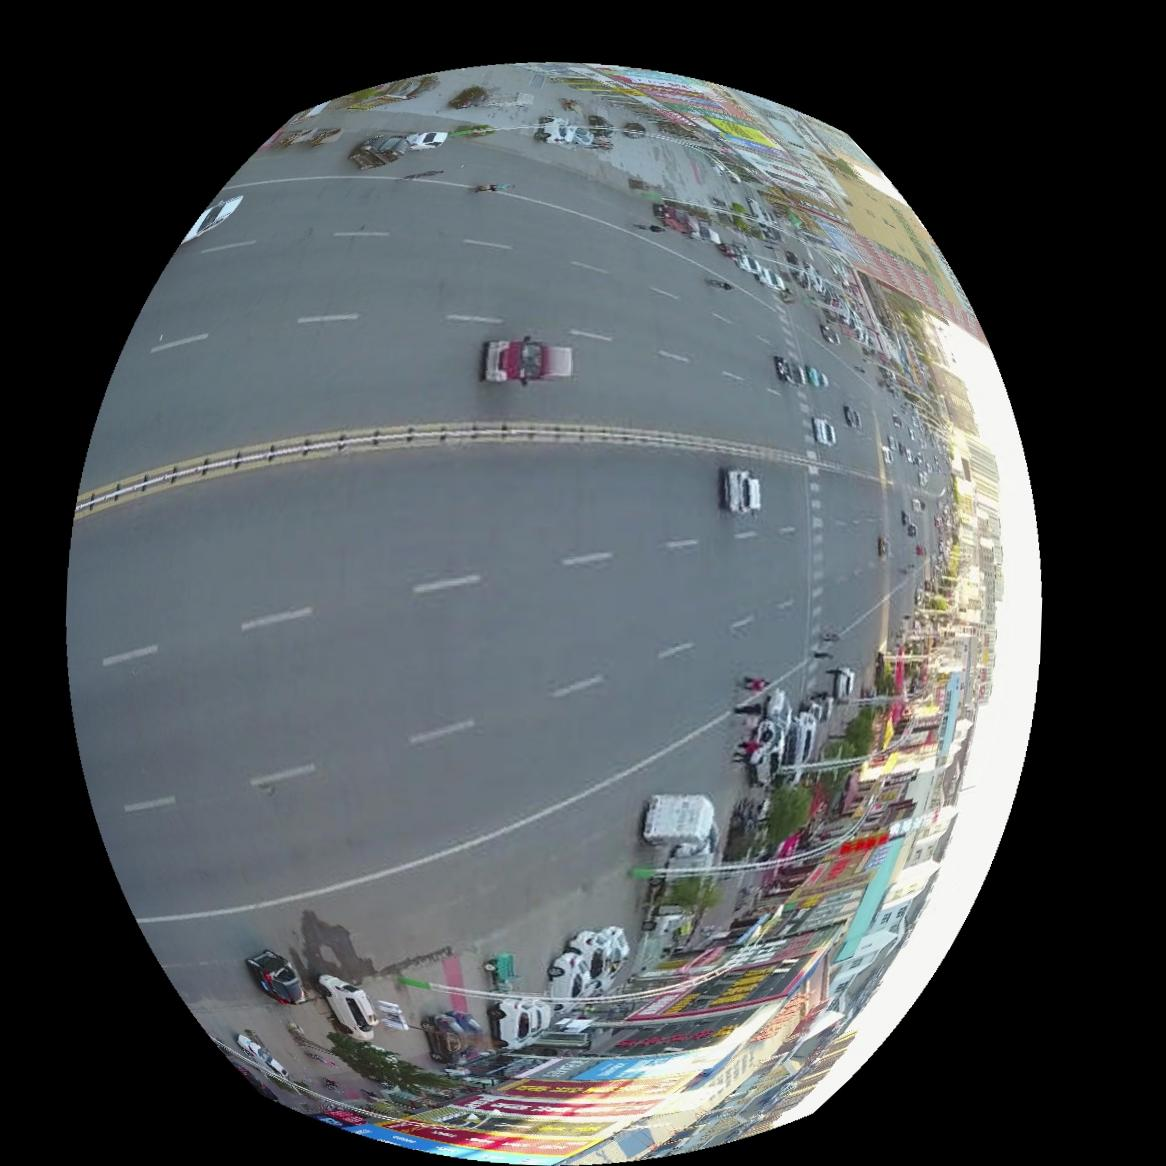building: (357, 808, 955, 1166), (553, 63, 976, 329)
cars: (480, 335, 571, 386), (314, 975, 376, 1043), (642, 795, 712, 845), (243, 951, 302, 1005), (179, 194, 239, 242), (720, 468, 760, 514), (773, 355, 804, 385), (811, 416, 835, 446), (804, 365, 828, 387)
trees: (290, 1034, 464, 1095), (757, 788, 810, 845), (651, 878, 722, 915)
